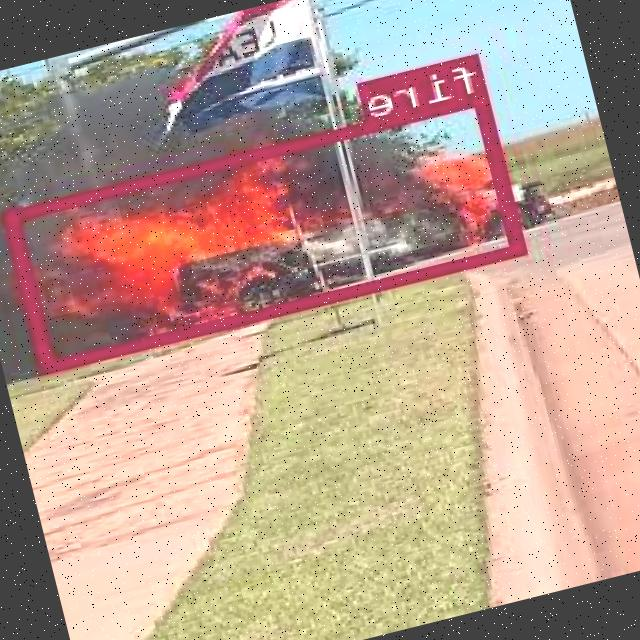fire: (4, 90, 528, 370)
